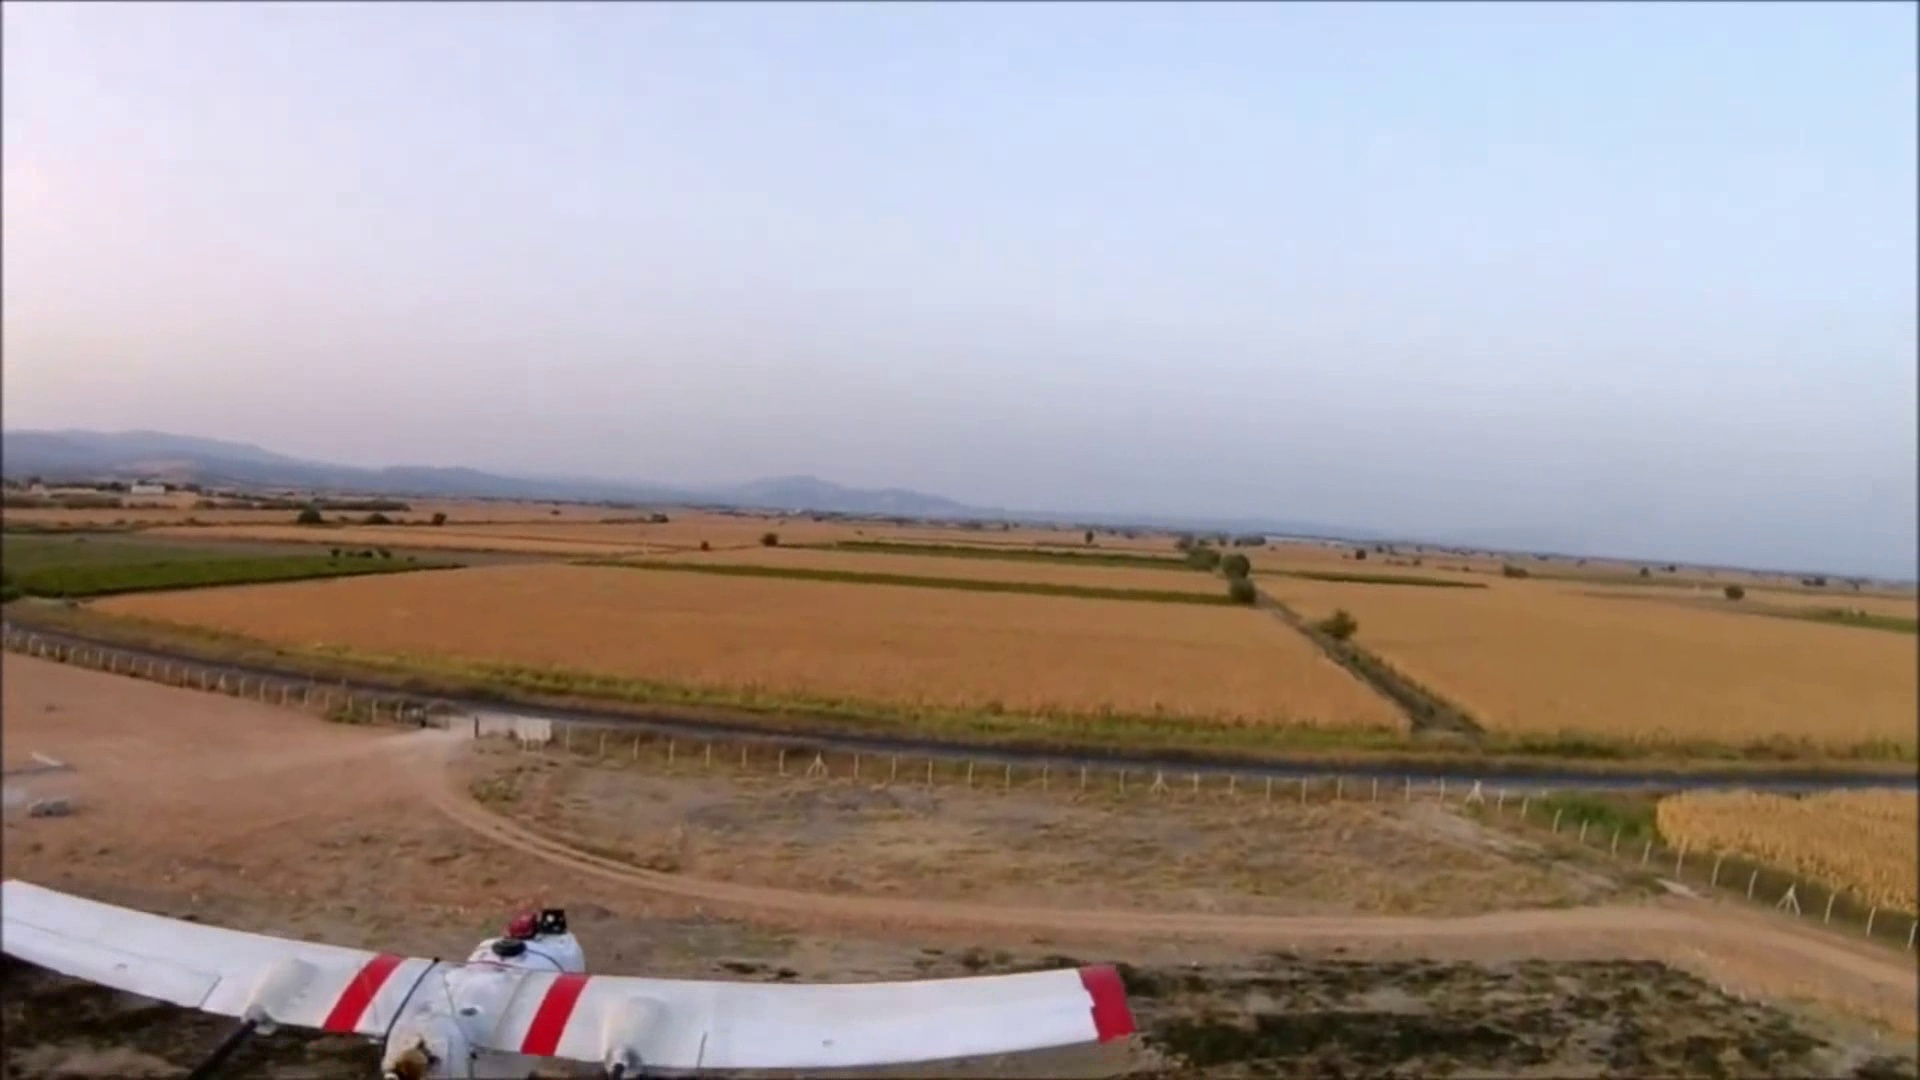airplane: (3, 877, 1135, 1069)
